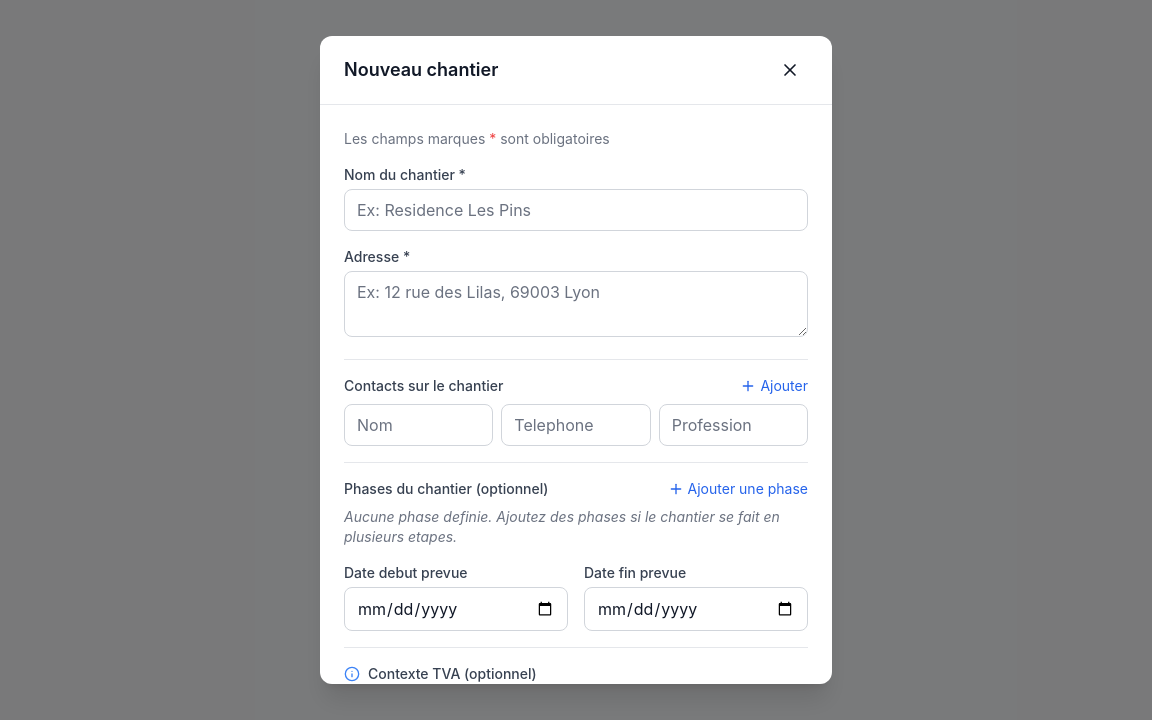
it: CreateChantierModal › Gestion des contacts › permet d ajouter un contact
The width and height of the screenshot is (1152, 720).
Click the button "Ajouter".
click(774, 386)  # box top-left (740, 376), bottom-right (808, 396)
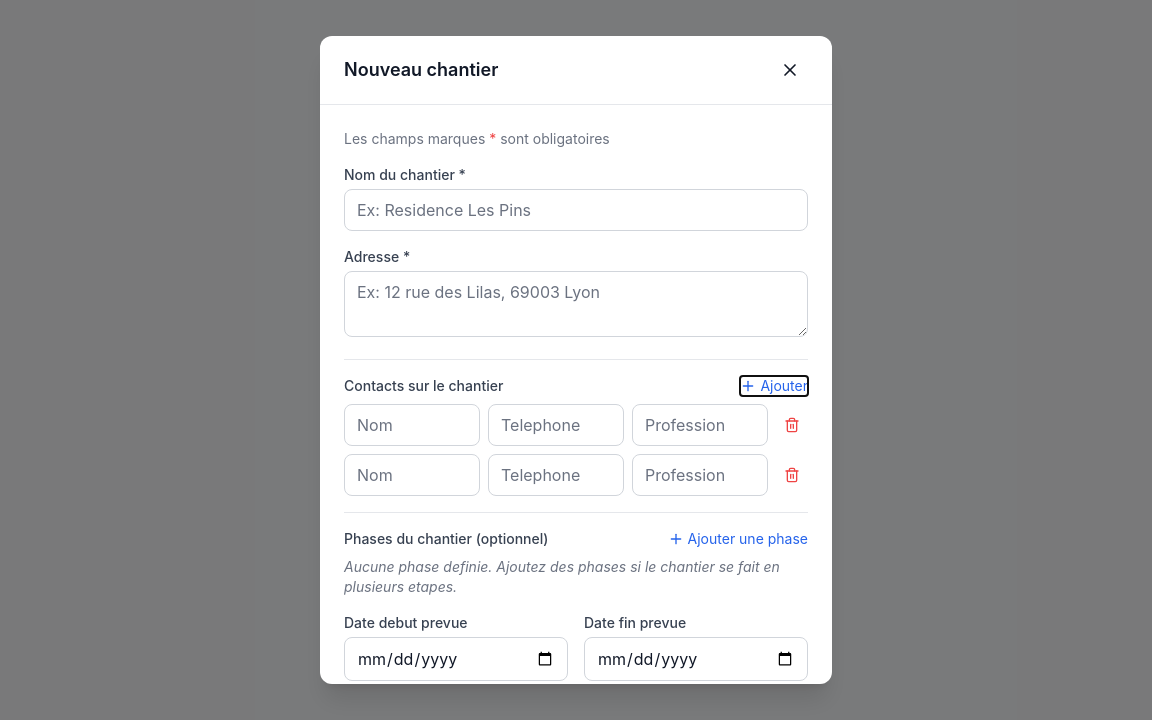
Now the number of fields with placeholder "Nom" is 2, box top-left (344, 404), bottom-right (480, 446); top-left (344, 454), bottom-right (480, 496)
